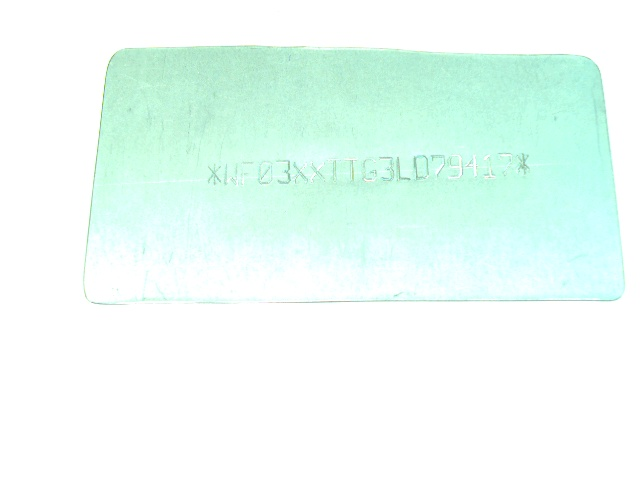0: (256, 158, 274, 187)
1: (482, 154, 497, 181)
3: (275, 158, 293, 186), (379, 156, 396, 182)
4: (465, 153, 481, 180)
7: (496, 151, 516, 181), (431, 152, 446, 180)
9: (447, 152, 464, 180)
d: (413, 154, 430, 181)
f: (238, 160, 253, 188)
g: (362, 156, 378, 182)
l: (397, 157, 412, 181)
t: (327, 156, 344, 184), (343, 157, 359, 186)
w: (223, 160, 240, 187)
x: (309, 158, 329, 187), (293, 158, 310, 187)
